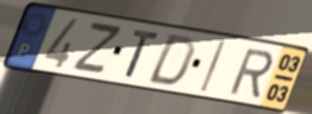4: (40, 16, 80, 70)
D: (144, 32, 198, 88)
I: (198, 39, 229, 95)
R: (227, 47, 275, 99)
T: (123, 28, 162, 81)
Z: (69, 22, 126, 77)
